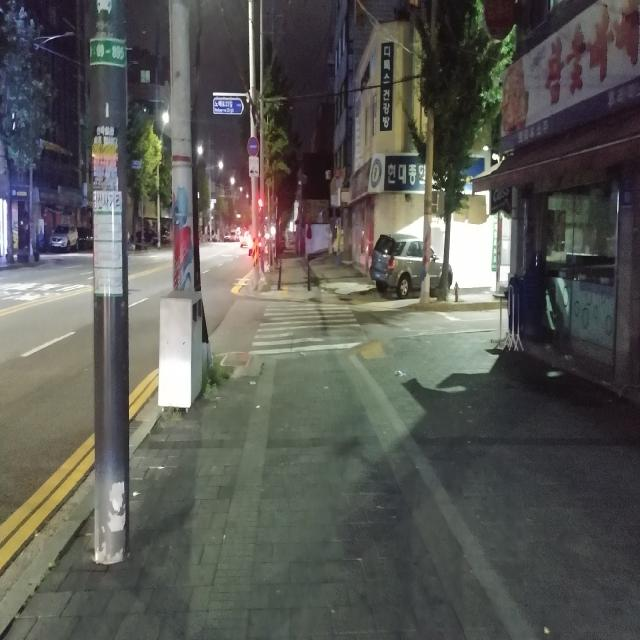횡단보도: (248, 306, 363, 354)
